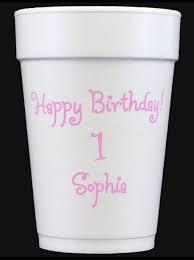Plastic cup: (12, 3, 194, 260)
